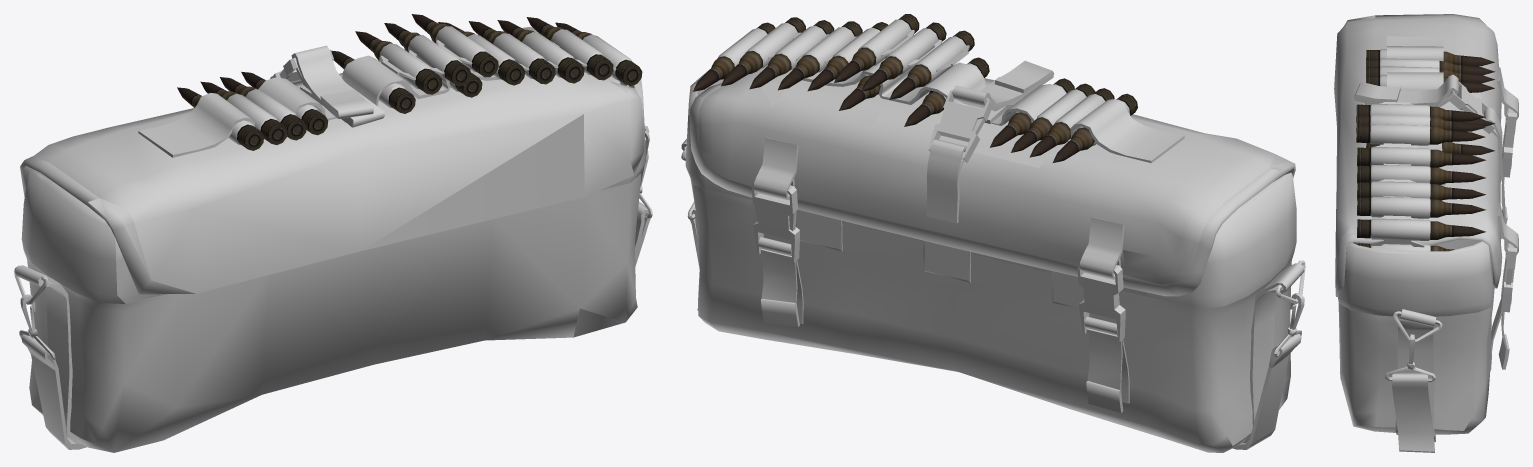
File: AmmoBag.FBX
3 renders of one model, left to right at view 1: azimuth 30°, elevation 25°; view 2: azimuth 150°, elevation 25°; view 3: azimuth 270°, elevation 25°, orthographic. The views are drawn at different scales.
Parts seen in each view (by area): view 1: AmmoBug, Bullets, Tape; view 2: AmmoBug, Bullets, Tape; view 3: AmmoBug, Tape, Bullets.
Part boxes in pixels (x1,y1,x2,y2): AmmoBug: [14, 27, 652, 452]; Bullets: [177, 14, 642, 150]; Tape: [227, 26, 632, 144]; AmmoBug: [681, 58, 1305, 452]; Bullets: [693, 14, 1137, 162]; Tape: [717, 19, 1130, 145]; AmmoBug: [1334, 14, 1518, 452]; Tape: [1370, 49, 1439, 251]; Bullets: [1356, 50, 1495, 251].
Bounding box in the file's own units: 39.78 × 19.36 × 12.23.
